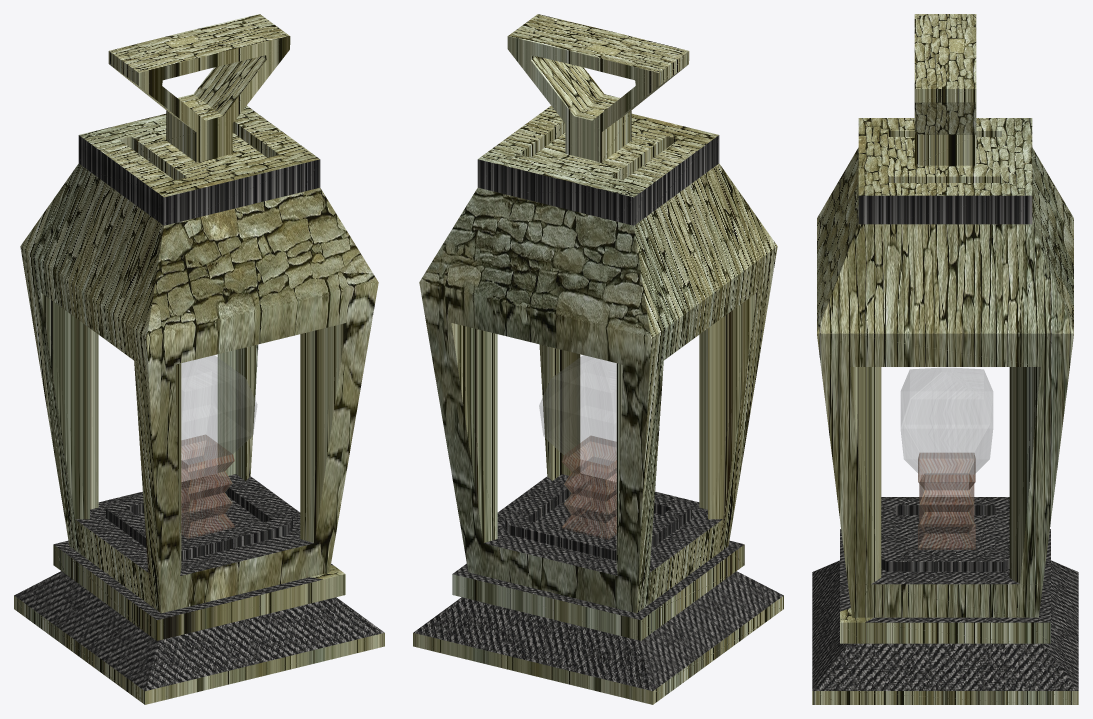
The model's file is mini_lanthanum.fbx.
3 views of the same model, side by side, from view 1: azimuth 30°, elevation 25°; view 2: azimuth 150°, elevation 25°; view 3: azimuth 270°, elevation 25° (orthographic).
Parts seen in each view (by area): view 1: Box001, Box002; view 2: Box001, Box002; view 3: Box001, Box002.
Part boxes in pixels (bbox=[...]): Box001: bbox=[14, 14, 384, 704]; Box002: bbox=[181, 355, 257, 538]; Box001: bbox=[413, 14, 783, 704]; Box002: bbox=[539, 355, 616, 539]; Box001: bbox=[812, 14, 1078, 704]; Box002: bbox=[901, 368, 992, 549].
Bounding box in the file's own units: 41.28 × 39.02 × 96.16.
